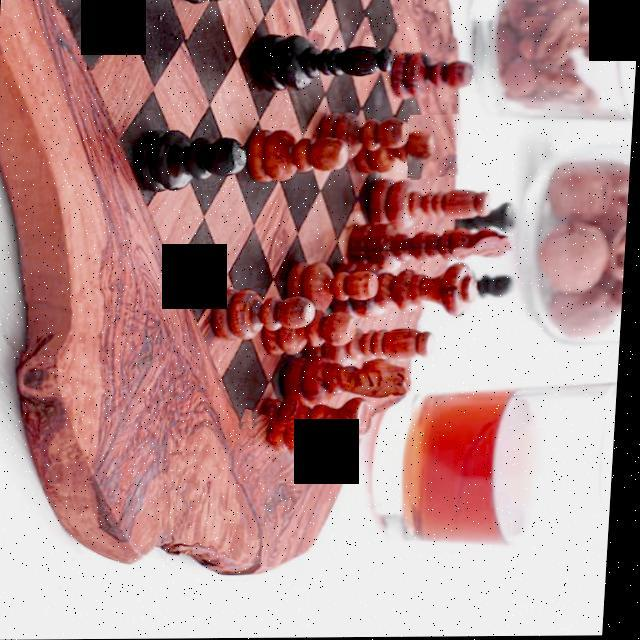chess-table-corners: (232, 414, 328, 484), (408, 116, 463, 180)
